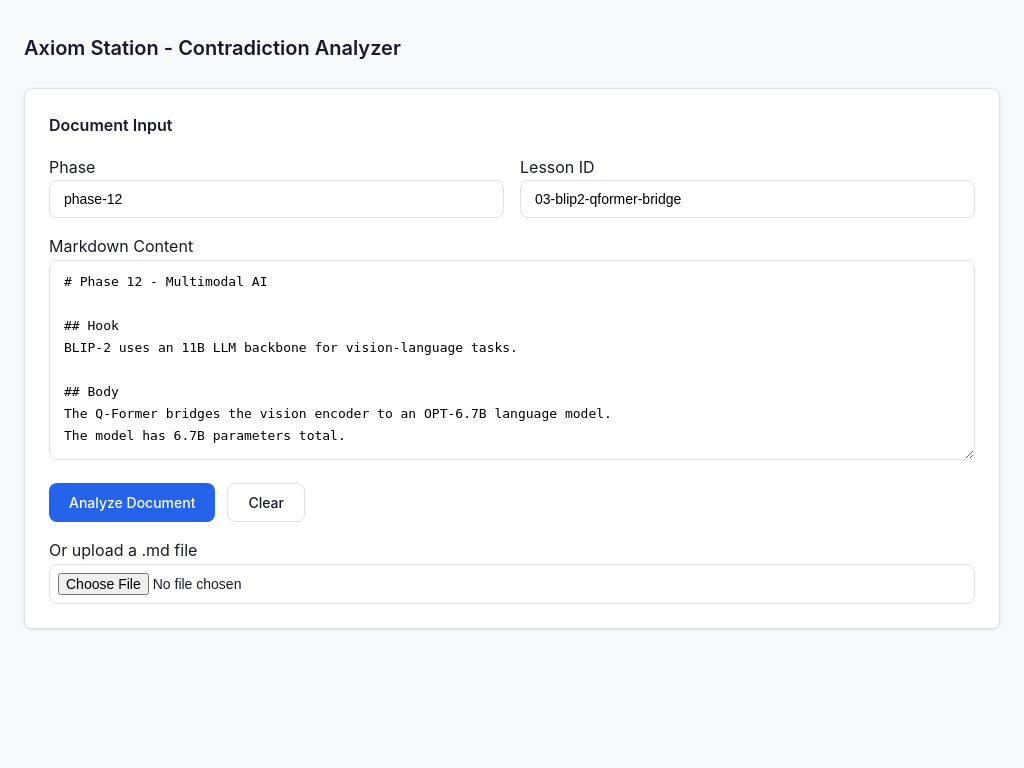
Analyzer › displays error message on analysis failure
This screenshot has width=1024, height=768.
What coordinates should you click on to do the following:
click the button "Analyze Document"
I would click on:
 (132, 503)
Its box is [49,483,215,522].
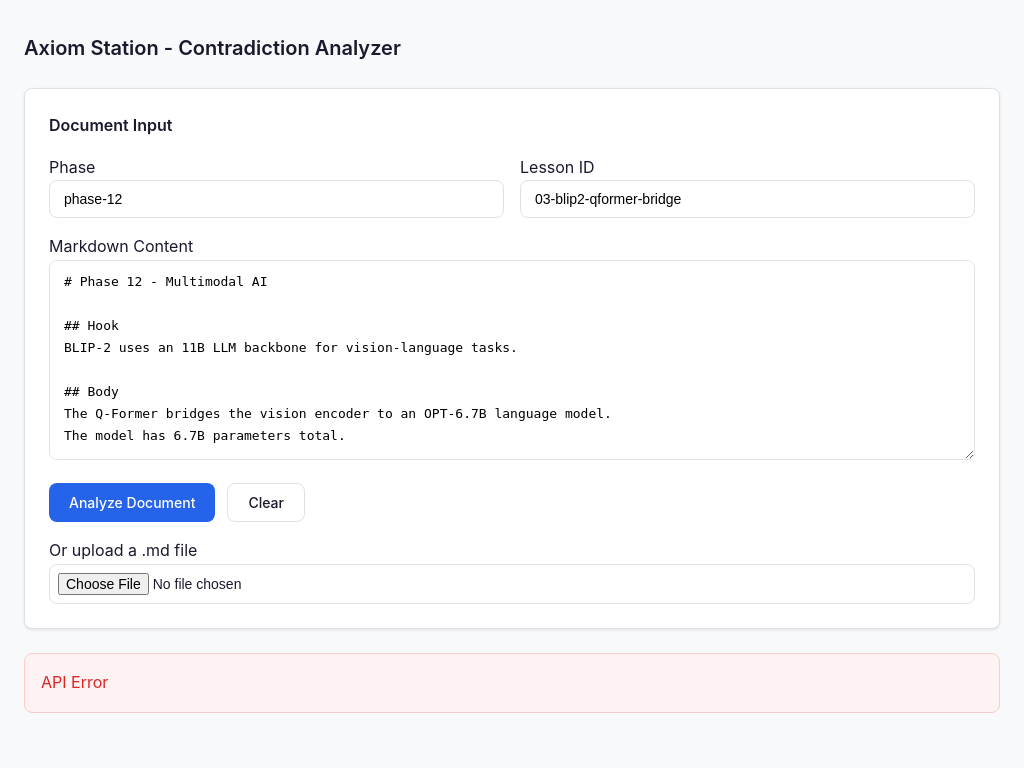
Check: the text "API Error" is shown, box [24,653,1000,713]
